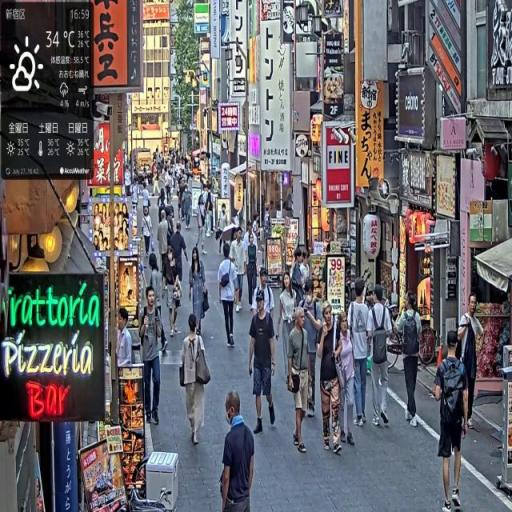person: (432, 329, 472, 512), (179, 311, 213, 450), (220, 387, 257, 512), (248, 290, 278, 436), (393, 292, 424, 429), (140, 286, 168, 427), (318, 304, 344, 455), (369, 283, 395, 430), (298, 279, 325, 420), (288, 307, 313, 454), (457, 297, 484, 432), (333, 315, 360, 450), (350, 282, 373, 428), (277, 273, 299, 388), (219, 244, 240, 352), (188, 247, 211, 339), (163, 247, 184, 339), (231, 228, 249, 312), (254, 269, 276, 328), (245, 227, 259, 310), (157, 211, 172, 286)
